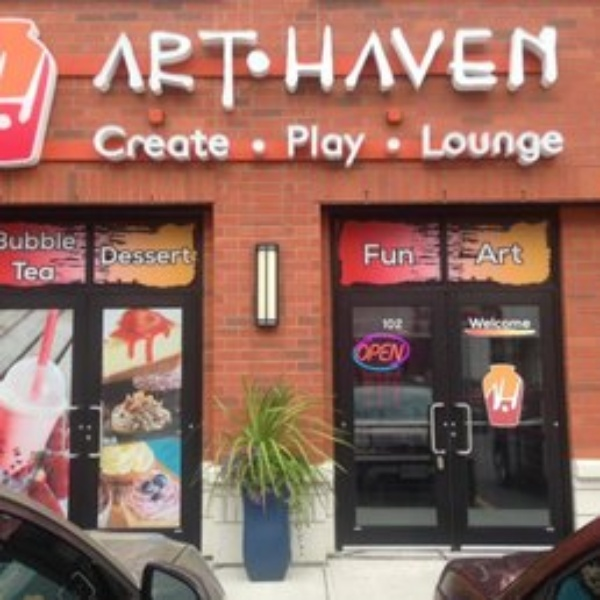text: (97, 17, 112, 112), (113, 17, 128, 112), (129, 17, 144, 112), (145, 17, 160, 112), (161, 17, 176, 112), (177, 17, 192, 112), (193, 17, 208, 112), (209, 17, 224, 112), (225, 17, 240, 112), (241, 17, 256, 112), (257, 17, 272, 112), (273, 17, 288, 112), (289, 17, 304, 112), (305, 17, 320, 112), (321, 17, 336, 112), (337, 17, 352, 112), (353, 17, 368, 112), (369, 17, 384, 112), (385, 17, 400, 112), (401, 17, 416, 112), (417, 17, 432, 112), (433, 17, 448, 112), (449, 17, 464, 112), (465, 17, 480, 112), (481, 17, 496, 112), (497, 17, 512, 112), (513, 17, 528, 112), (529, 17, 544, 112), (545, 17, 559, 112), (433, 121, 448, 168), (449, 121, 464, 168), (465, 121, 480, 168), (481, 121, 496, 168), (497, 121, 512, 168), (513, 121, 528, 168), (529, 121, 544, 168), (545, 121, 560, 168), (289, 124, 304, 170), (305, 124, 320, 170), (321, 124, 336, 170), (337, 124, 352, 170), (353, 124, 368, 170), (497, 373, 512, 414), (419, 121, 432, 168), (482, 373, 496, 414), (97, 124, 112, 161), (113, 124, 128, 161), (129, 124, 144, 161), (145, 124, 160, 161), (161, 124, 176, 161), (177, 124, 192, 161), (193, 124, 208, 161), (209, 124, 224, 161), (513, 373, 526, 414), (113, 242, 128, 270), (129, 242, 144, 270), (145, 242, 160, 270), (161, 242, 176, 270), (177, 242, 192, 270), (17, 256, 32, 282), (33, 256, 48, 282), (1, 228, 16, 252), (17, 228, 32, 252), (33, 228, 48, 252), (49, 228, 64, 252), (369, 242, 384, 266), (385, 242, 400, 266), (481, 242, 496, 266), (497, 242, 512, 266), (369, 340, 384, 363), (385, 340, 400, 363), (354, 340, 368, 363), (401, 242, 414, 266), (101, 242, 112, 270), (65, 228, 77, 252), (481, 314, 496, 331), (497, 314, 512, 331), (513, 314, 528, 331), (466, 314, 480, 331), (561, 121, 566, 168), (225, 124, 231, 161), (385, 317, 400, 331), (513, 242, 521, 266), (94, 17, 96, 112), (91, 124, 96, 161), (284, 124, 288, 170), (361, 242, 368, 266), (473, 242, 480, 266), (10, 256, 16, 282), (49, 256, 54, 282), (193, 242, 196, 270), (529, 314, 533, 331), (380, 317, 384, 331), (401, 317, 405, 331), (401, 340, 403, 363)
